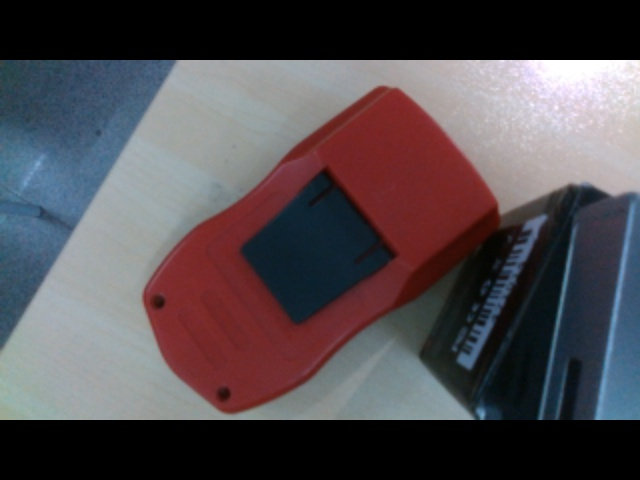Multimeter: (142, 85, 498, 417)
Screw holes: (148, 292, 168, 311), (216, 386, 232, 404)
